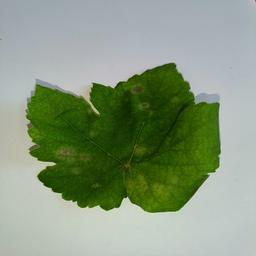Powdery-Mildew: (128, 173, 171, 205), (54, 143, 87, 165), (134, 97, 151, 113), (134, 143, 151, 159)
